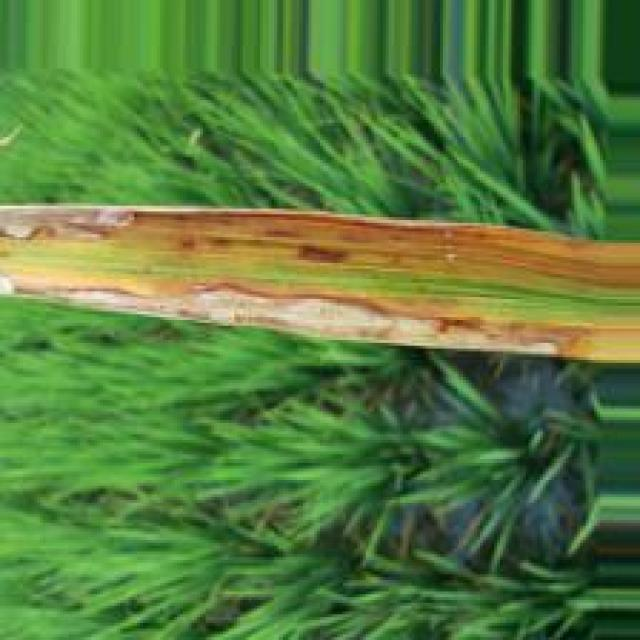Bacterial_Leaf_Blight: (0, 203, 640, 368)
